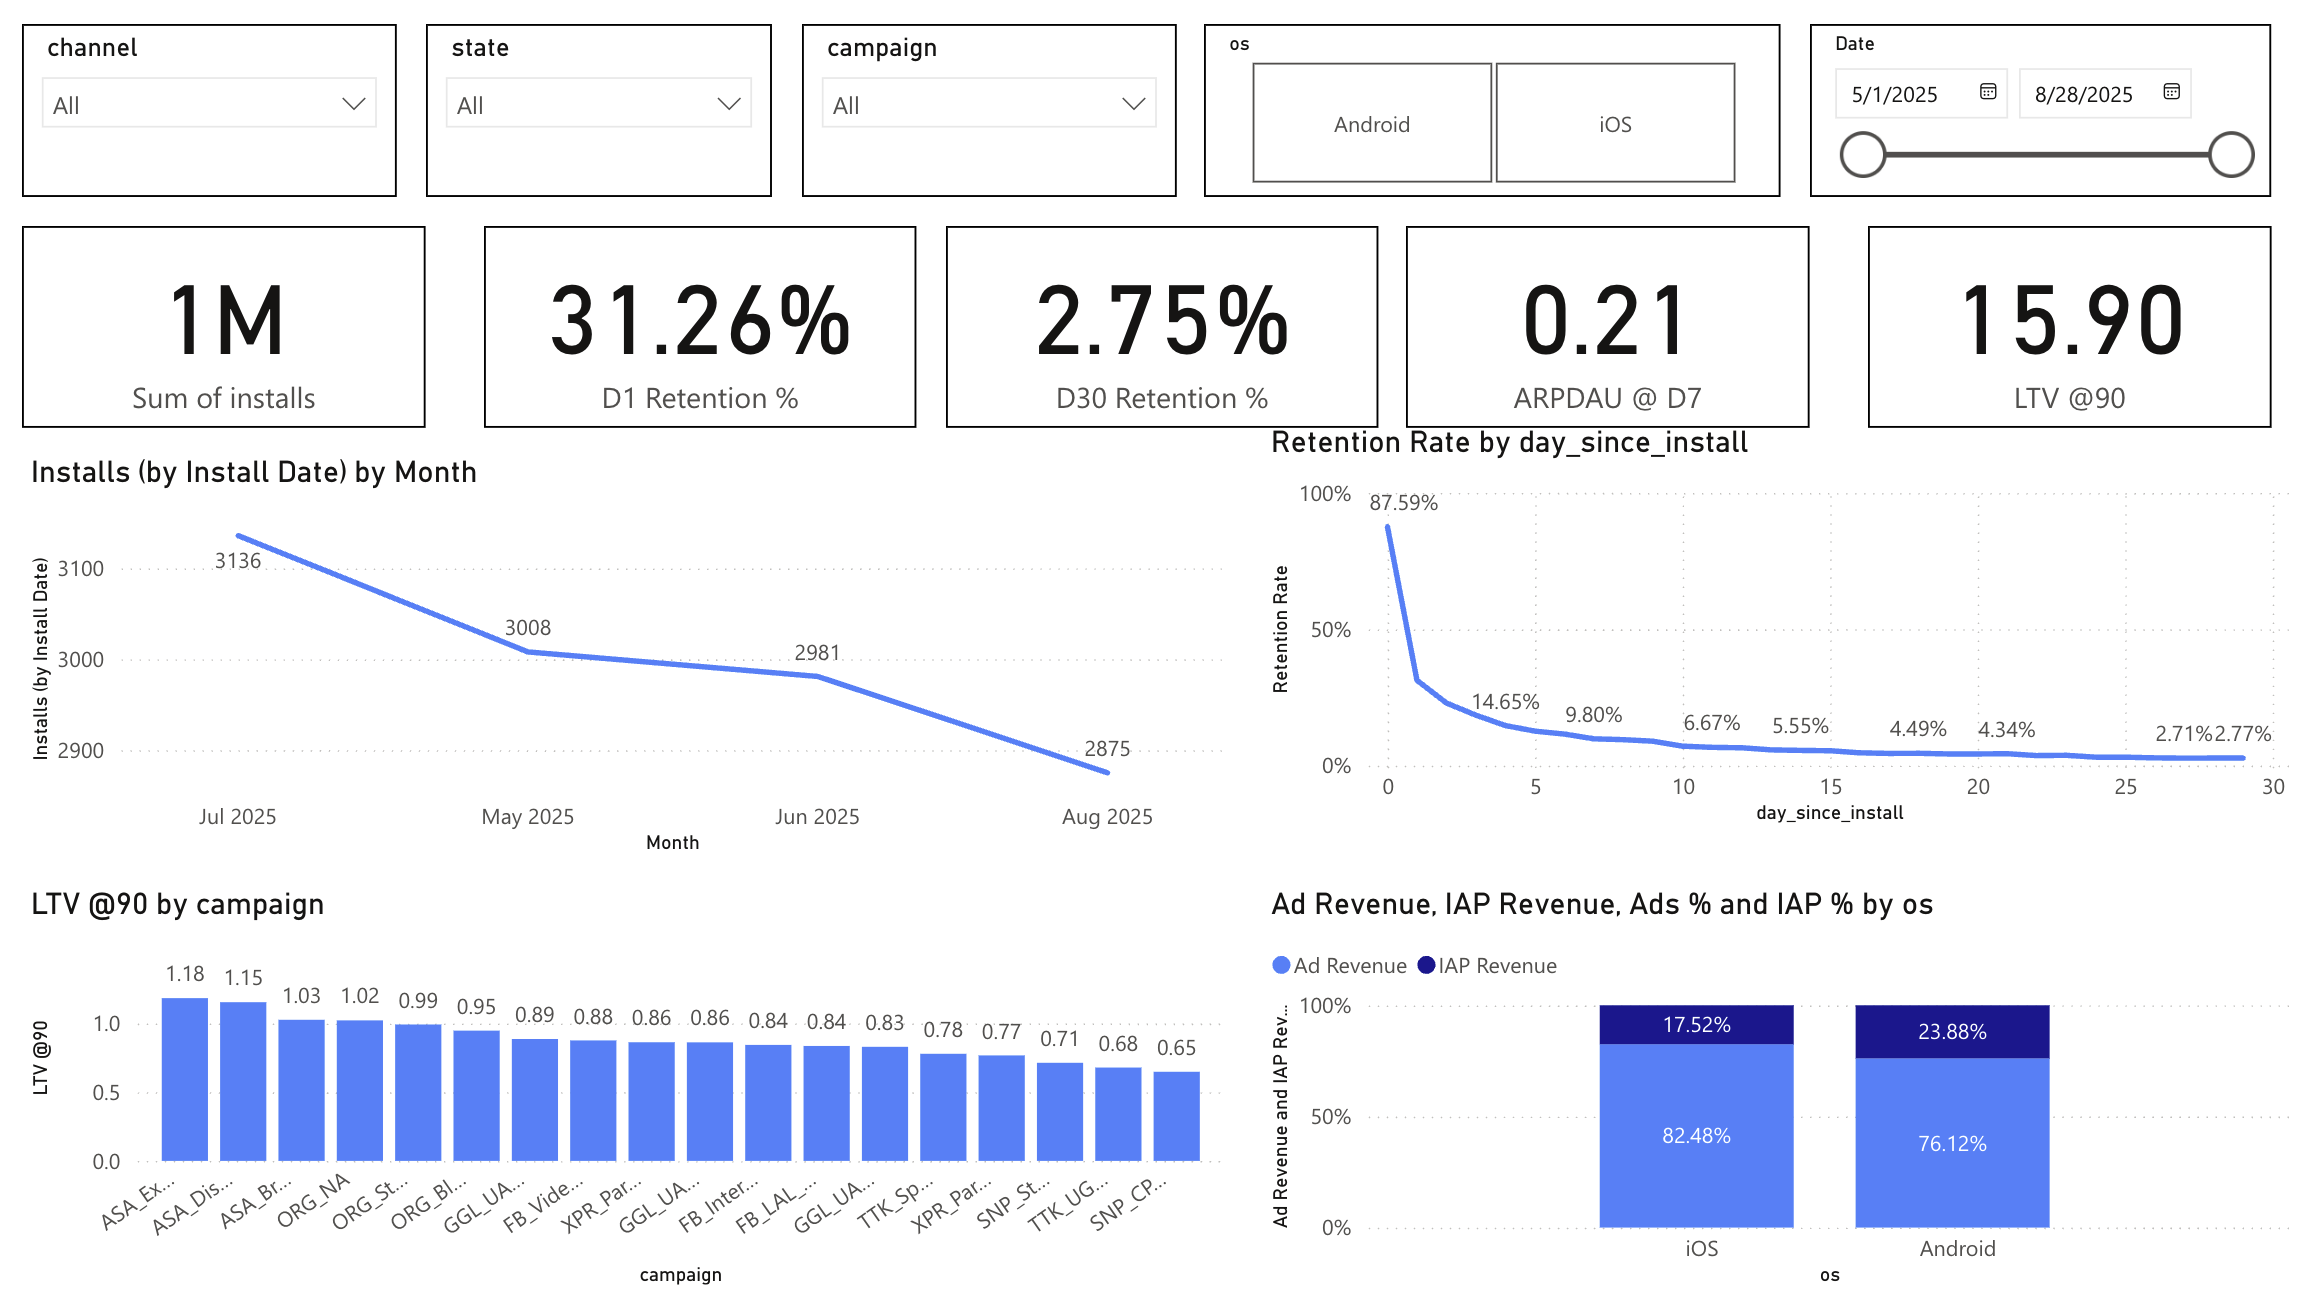

What the dashboard file says about the page in this screenshot:
{"tool":"powerbi","page":{"name":"User Acquisition","canvas":[1280,720],"ordinal":6},"visuals":[{"type":"slicer","fields":{"Values":["Date.Date"]},"box":[1008,16,256,96],"z":0},{"type":"slicer","fields":{"Values":["users.os"]},"box":[672,16,320,96],"z":1000},{"type":"slicer","fields":{"Values":["users.state"]},"box":[240,16,192,96],"z":2000},{"type":"slicer","fields":{"Values":["users.channel"]},"box":[16,16,208,96],"z":3000},{"type":"slicer","fields":{"Values":["users.campaign"]},"box":[448,16,208,96],"z":4000},{"type":"card","fields":{"Values":["Sum(campaign_retention_arpdau.installs)"]},"box":[16,128,224,112],"z":5000},{"type":"lineChart","fields":{"Y":["measure.Installs (by Install Date)"],"Category":["Date.Month"]},"box":[16,256,672,224],"z":6000},{"type":"columnChart","fields":{"Y":["measure.LTV @90"],"Category":["ltv_prediction.campaign"]},"box":[16,496,672,224],"z":7000},{"type":"lineChart","fields":{"Category":["campaign_retention_arpdau.day_since_install"],"Y":["measure.Retention Rate"]},"box":[704,240,576,224],"z":8000},{"type":"card","fields":{"Values":["measure.D1 Retention %"]},"box":[272,128,240,112],"z":9000},{"type":"card","fields":{"Values":["measure.D30 Retention %"]},"box":[528,128,240,112],"z":10000},{"type":"card","fields":{"Values":["measure.ARPDAU @ D7"]},"box":[784,128,224,112],"z":11000},{"type":"card","fields":{"Values":["measure.LTV @90"]},"box":[1040,128,224,112],"z":12000},{"type":"hundredPercentStackedColumnChart","fields":{"Category":["users.os"],"Y":["measure.Ad Revenue","measure.IAP Revenue"]},"box":[704,496,576,224],"z":13000}]}

Visuals, with their boxes in screenshot pixels (x1, y1, x2, y2), scaled from the page's 1280x720 canvas onto the 2300x1304 screenshot:
slicer - Date.Date: [1811, 29, 2271, 203]
slicer - users.os: [1208, 29, 1782, 203]
slicer - users.state: [431, 29, 776, 203]
slicer - users.channel: [29, 29, 402, 203]
slicer - users.campaign: [805, 29, 1179, 203]
card - Sum(campaign_retention_arpdau.installs): [29, 232, 431, 435]
lineChart - measure.Installs (by Install Date) x Date.Month: [29, 464, 1236, 869]
columnChart - measure.LTV @90 x ltv_prediction.campaign: [29, 898, 1236, 1303]
lineChart - campaign_retention_arpdau.day_since_install x measure.Retention Rate: [1265, 435, 2299, 840]
card - measure.D1 Retention %: [489, 232, 920, 435]
card - measure.D30 Retention %: [949, 232, 1380, 435]
card - measure.ARPDAU @ D7: [1409, 232, 1811, 435]
card - measure.LTV @90: [1869, 232, 2271, 435]
hundredPercentStackedColumnChart - users.os x measure.Ad Revenue: [1265, 898, 2299, 1303]
